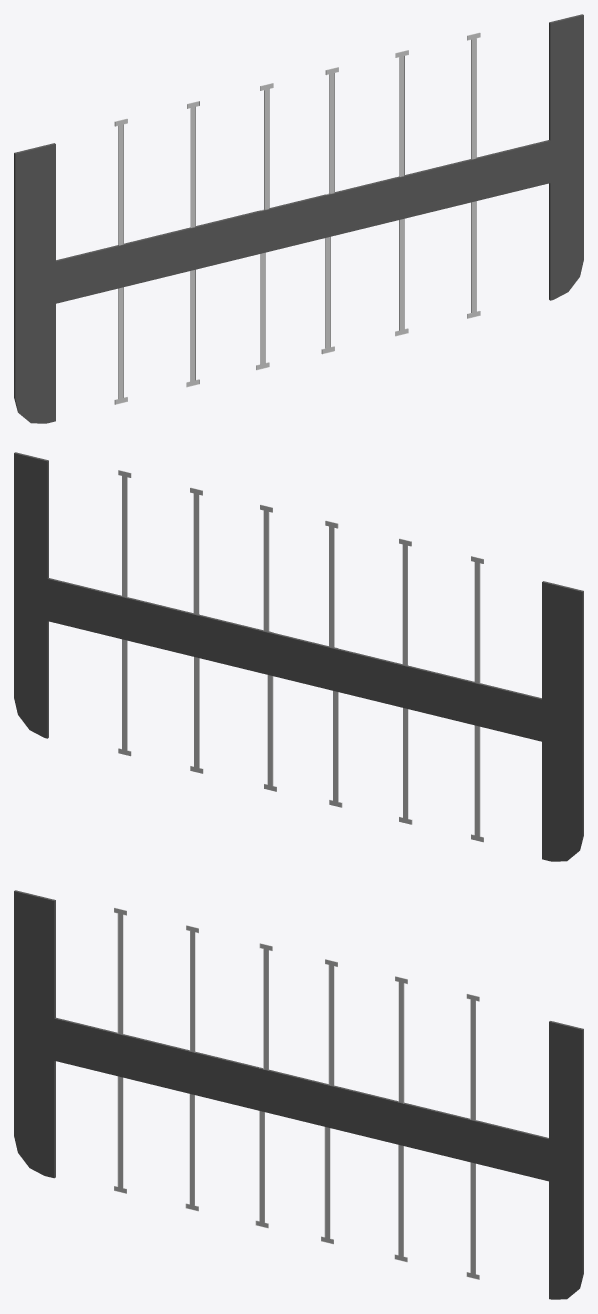
File: parking.fbx
3 views of the same model, one above another, from view 1: azimuth 30°, elevation 25°; view 2: azimuth 150°, elevation 25°; view 3: azimuth 330°, elevation 25° (orthographic).
Visible parts, largest first — view 1: parking; view 2: parking; view 3: parking.
Boxes of the visible parts, bbox=[...] form: parking: bbox=[14, 14, 583, 423]; parking: bbox=[14, 452, 583, 861]; parking: bbox=[14, 890, 583, 1299].
Size of the model in its own units: 750 by 359 by 3.11.
